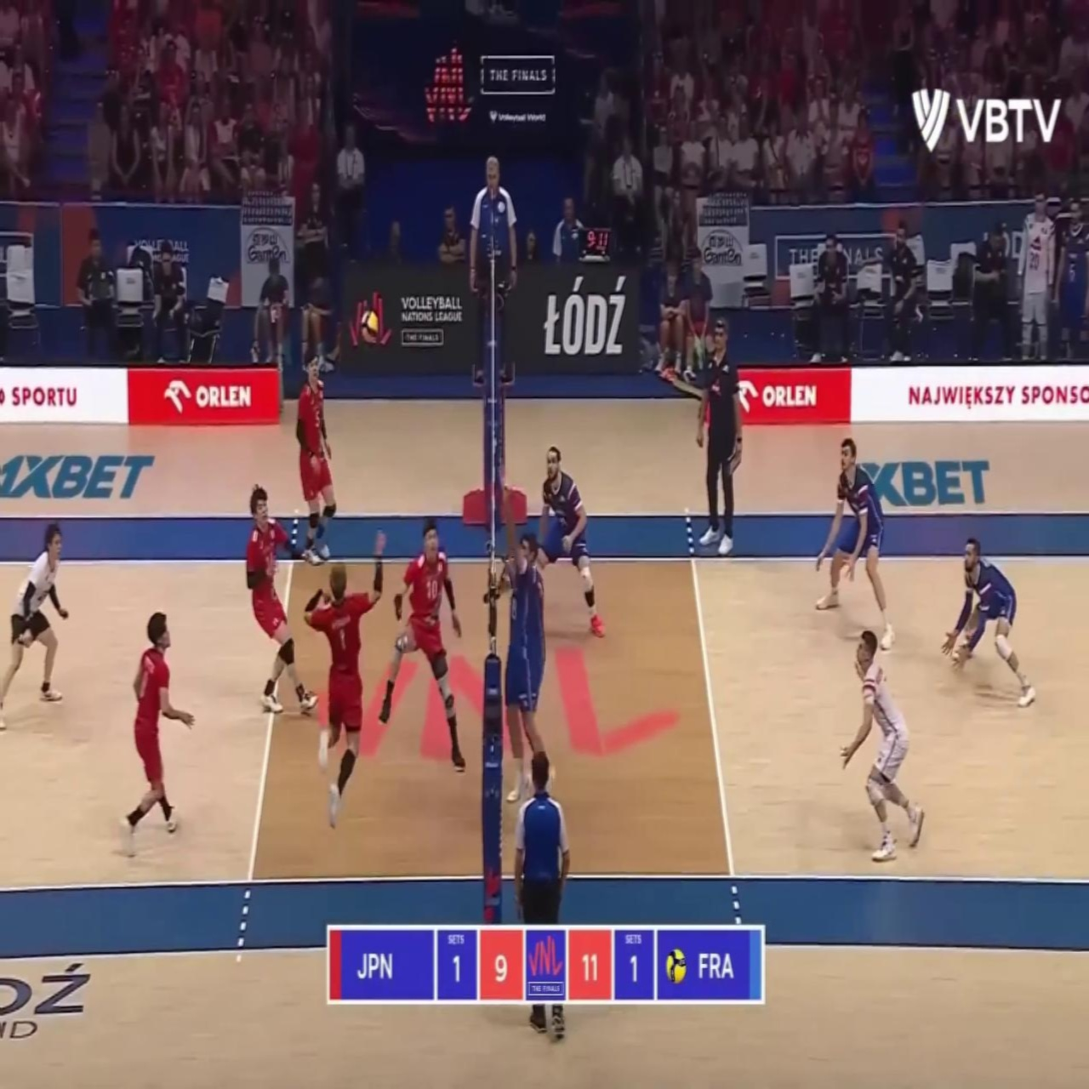ball: (361, 312, 377, 343)
